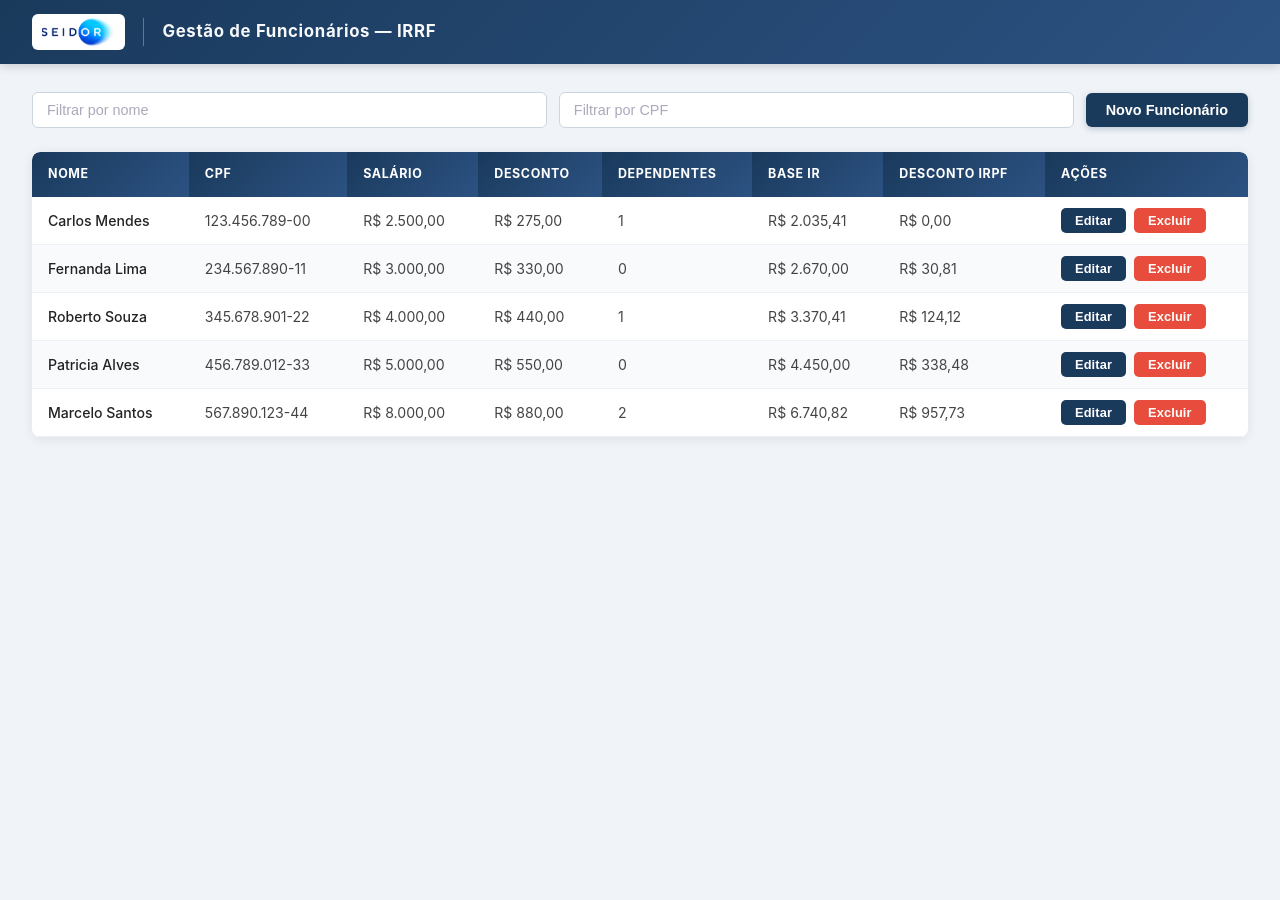
Test: App — integração › edita funcionário e mantém na tabela com os novos dados
The image size is (1280, 900).
# abre edição do primeiro funcionário (Carlos Mendes)
Click the button "Editar" in the row of "Carlos Mendes" at (1094,220), box 1061,208 -> 1126,233
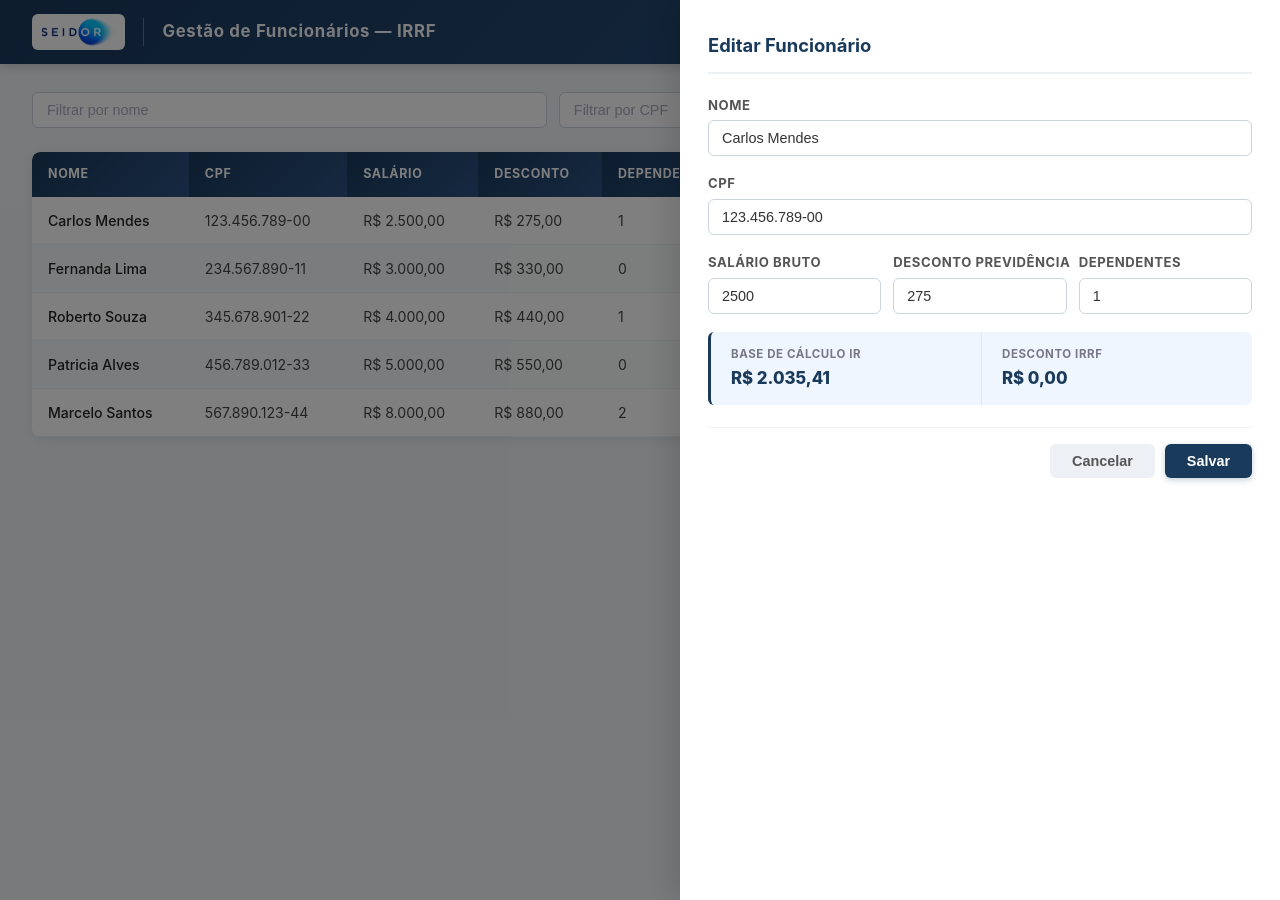
Expected: the 1st field showing "Carlos Mendes" is shown
# altera o nome
Replace the text in the 1st field showing "Carlos Mendes" with "Carlos Editado" at (980,138), box 708,120 -> 1252,156
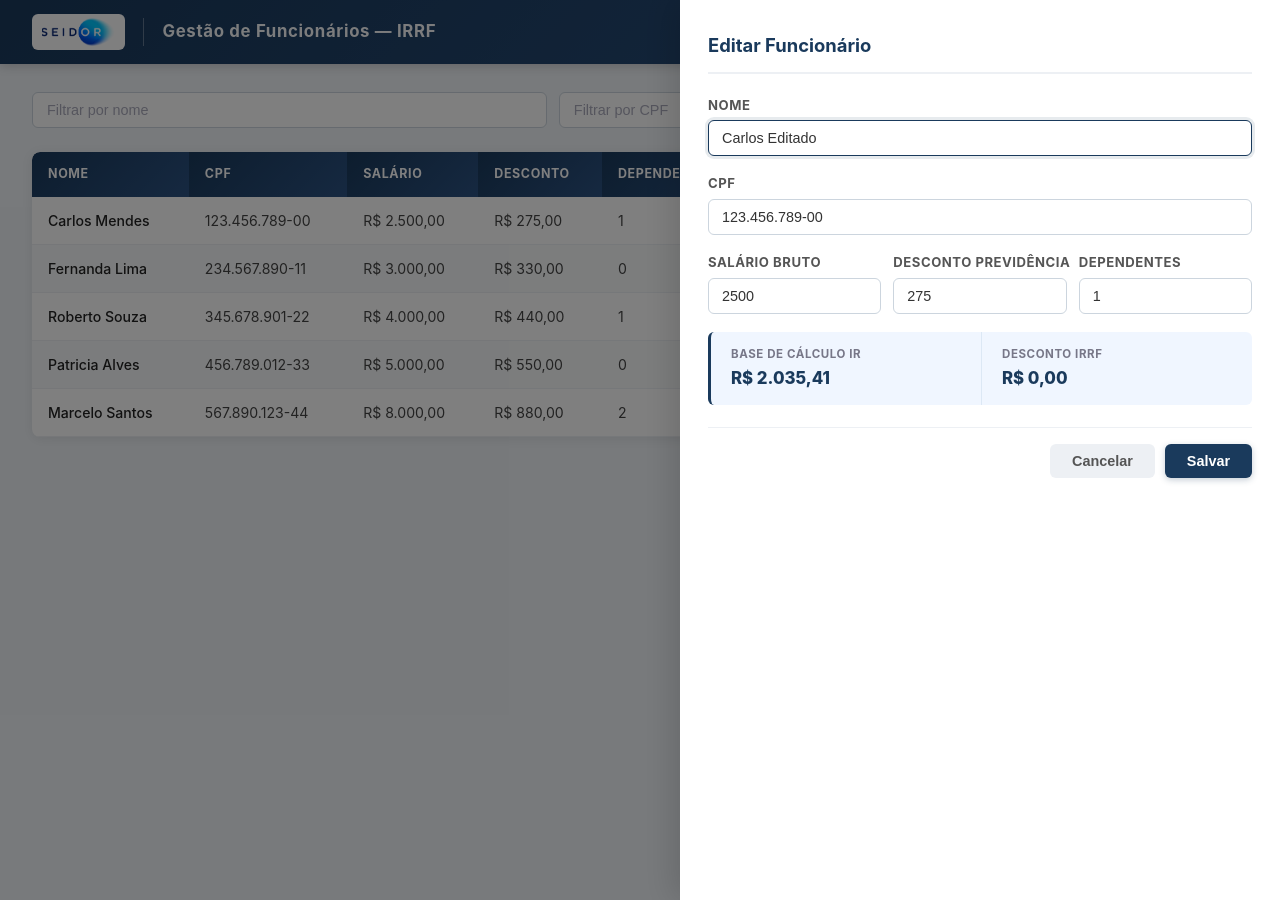
Click the button "Salvar" at (1208,461), box 1165,444 -> 1252,478
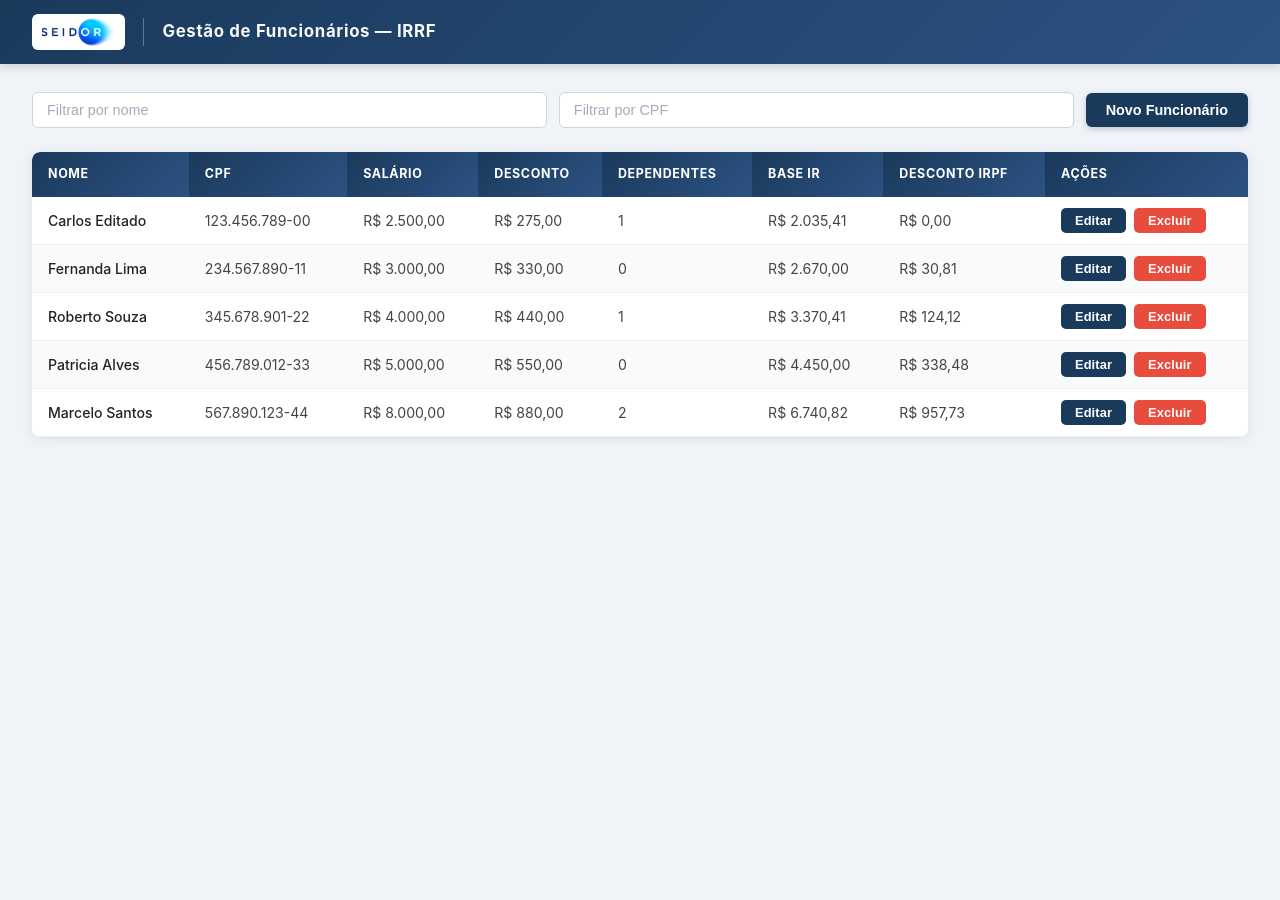
Expected: the text "Carlos Editado" is shown, 32,197 -> 189,244
Expected: the text "Carlos Mendes" is gone
